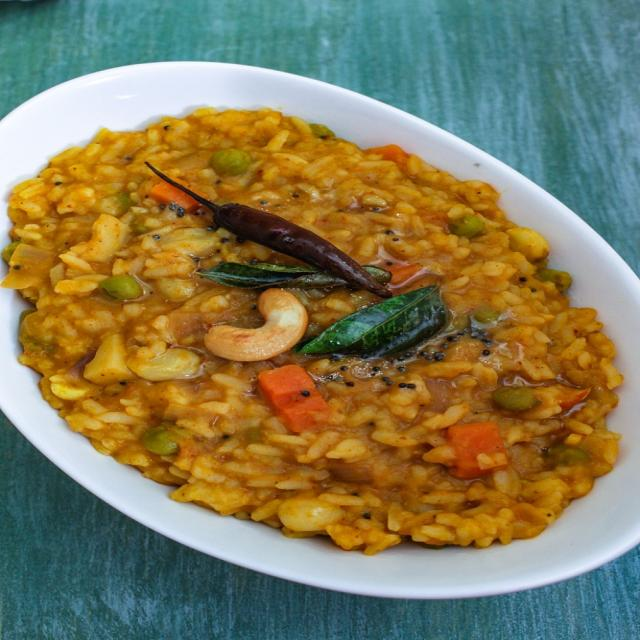bisibele bath: (0, 42, 640, 620)
